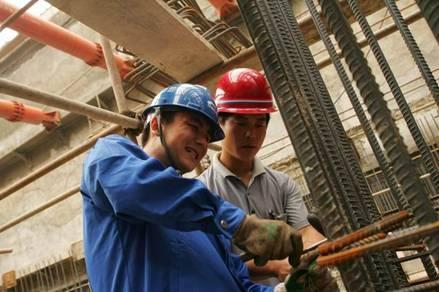helmet: (215, 68, 280, 116), (151, 85, 228, 124)
